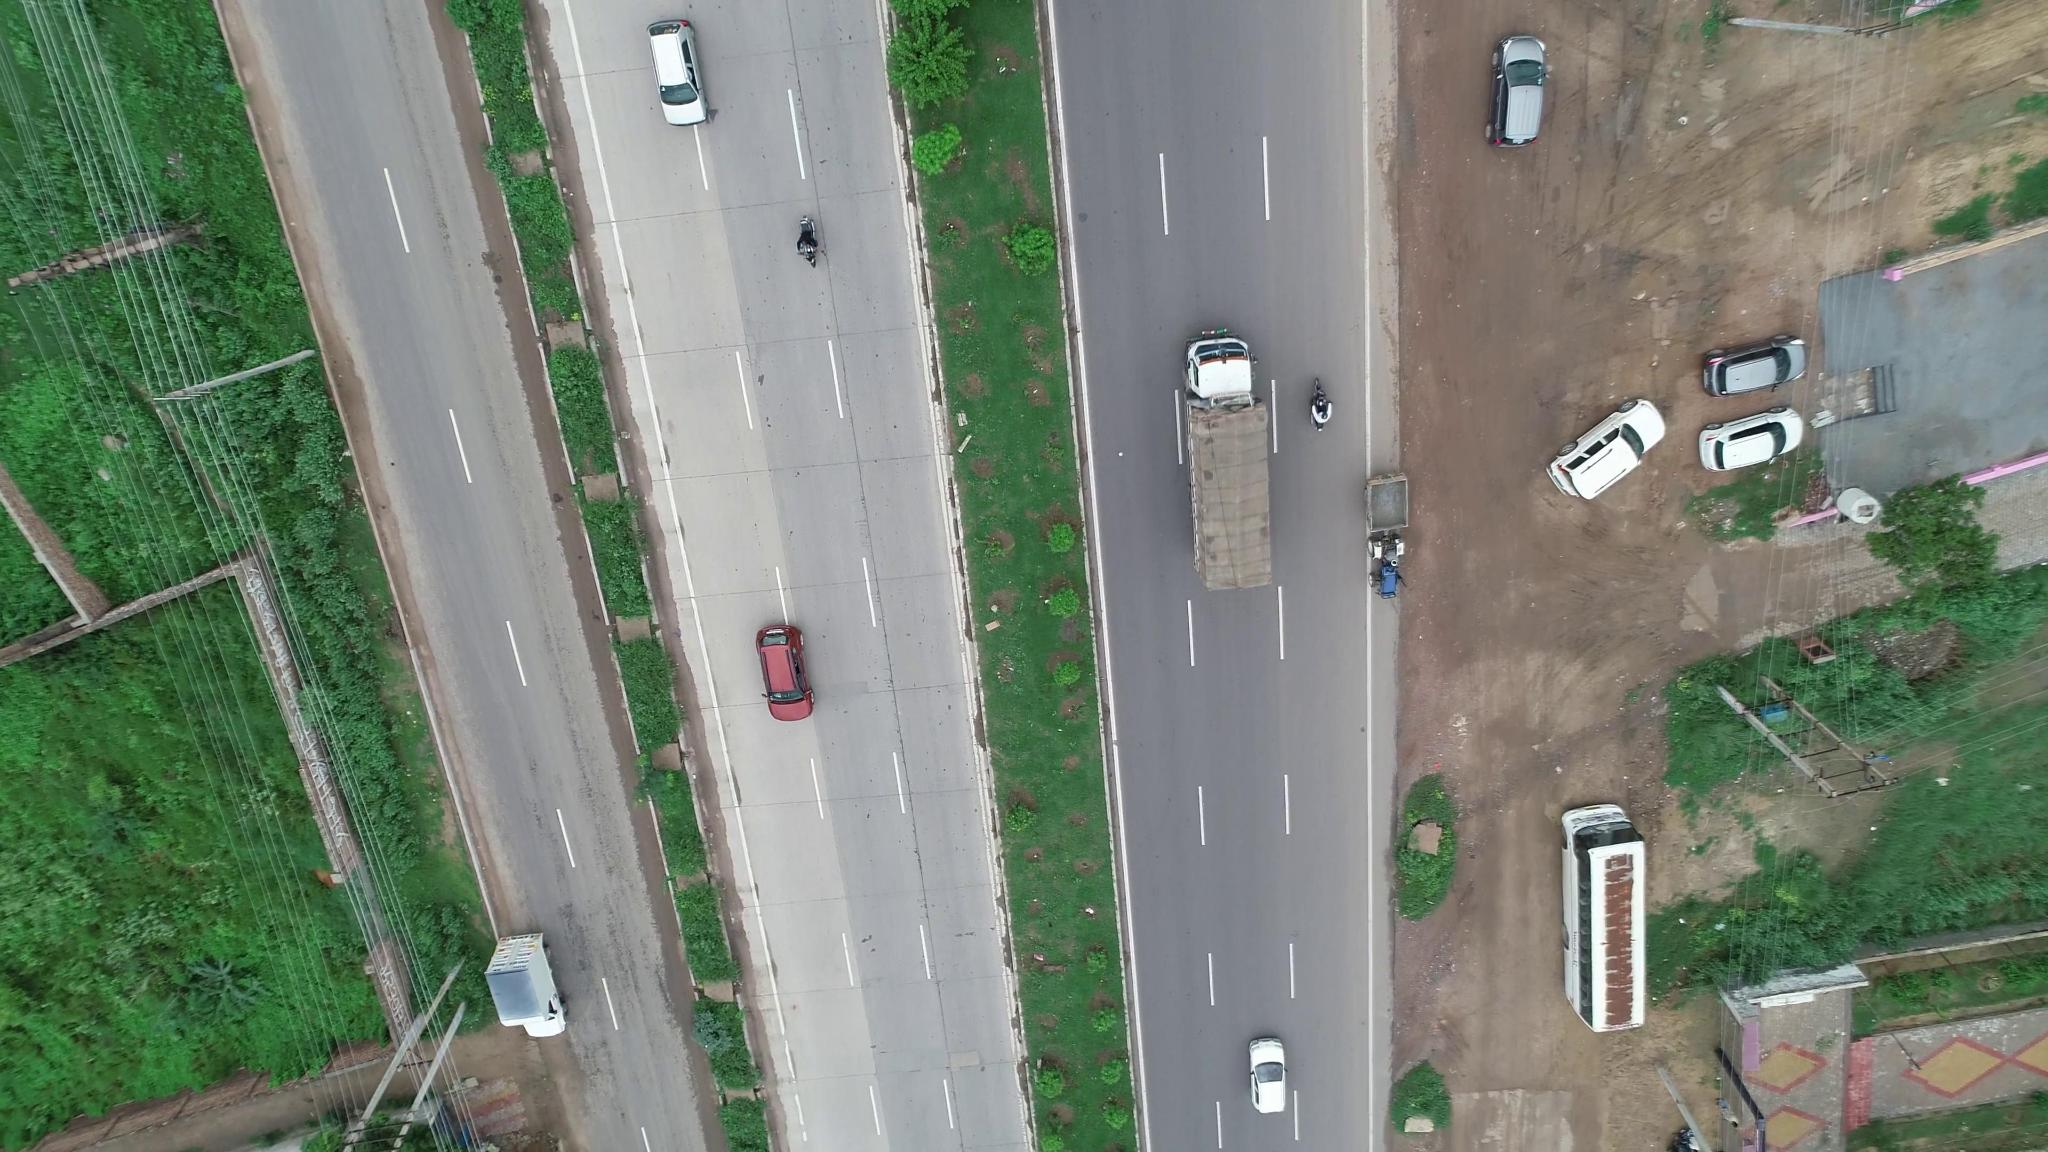Muddy_road: (1439, 525, 1715, 816), (1421, 174, 1705, 435), (1412, 838, 1559, 1148)
